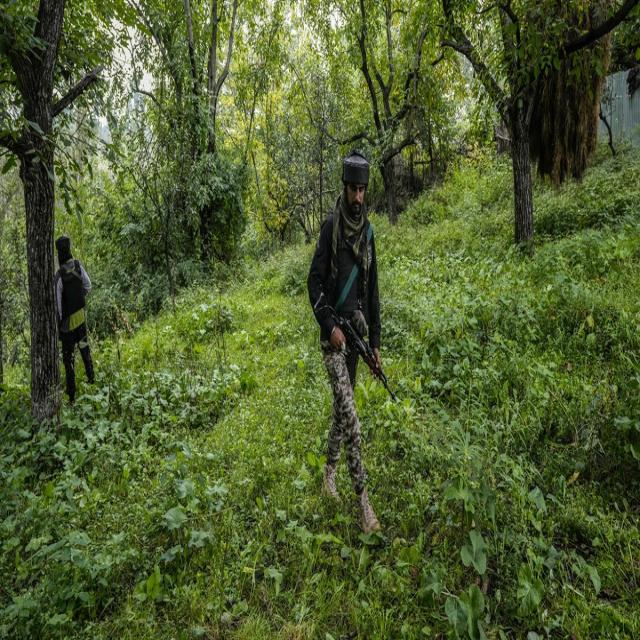Forest: (0, 0, 640, 640)
Militant: (301, 139, 401, 547), (41, 222, 102, 410)
